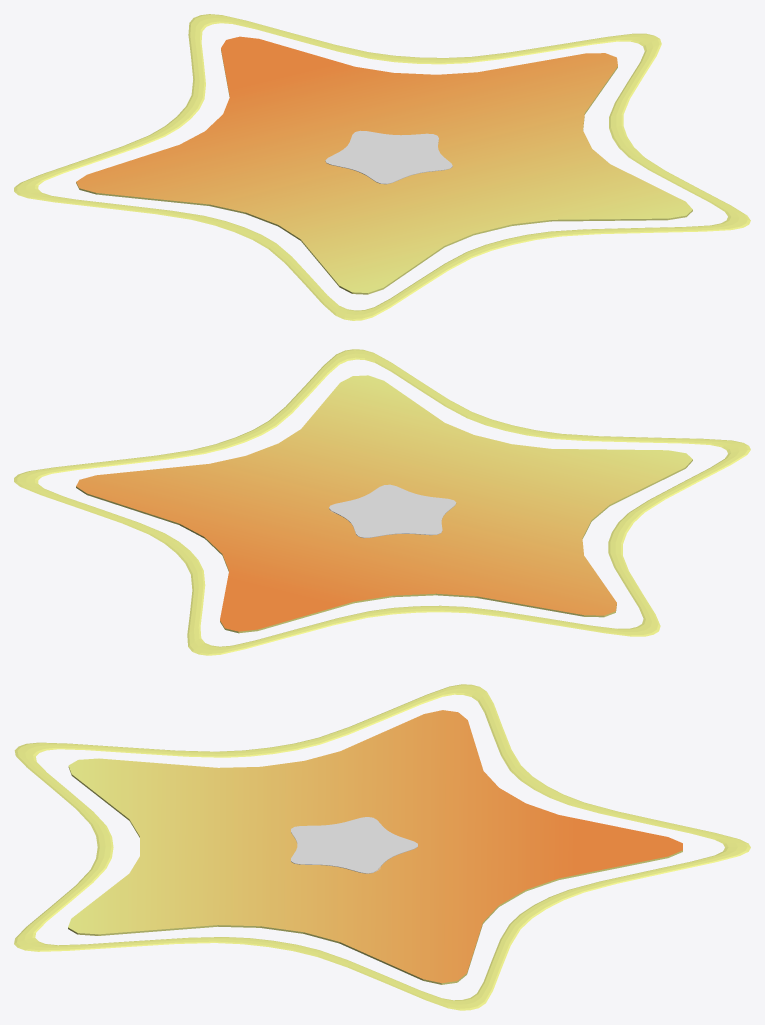
File: Break.fbx
3 views of the same model, one above another, from view 1: azimuth 30°, elevation 25°; view 2: azimuth 150°, elevation 25°; view 3: azimuth 270°, elevation 25° (orthographic). The views are drawn at different scales.
Parts seen in each view (by area): view 1: break.001, break.002, tap.005; view 2: break.001, break.002, tap.005; view 3: break.001, break.002, tap.005.
Part boxes in pixels (x1,y1,x2,y2): break.001: (76,36,692,294); break.002: (14,14,750,320); tap.005: (325,130,452,184); break.001: (76,375,692,633); break.002: (14,349,750,655); tap.005: (329,484,456,538); break.001: (68,710,682,984); break.002: (14,684,750,1010); tap.005: (291,817,417,873).
Bounding box in the file's own units: 1.6 × 0.00599 × 1.53.
